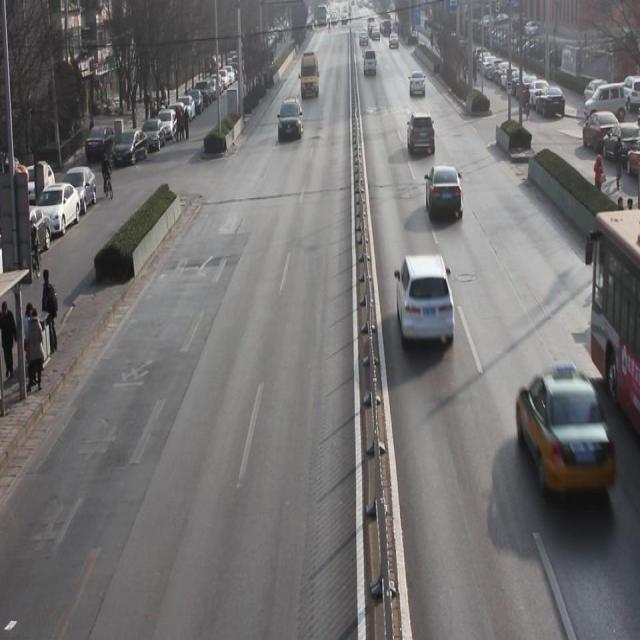car: (516, 363, 612, 501), (392, 255, 457, 358), (425, 164, 465, 225), (406, 112, 437, 159), (277, 96, 301, 141), (410, 68, 427, 99)
truck: (300, 50, 320, 101), (362, 48, 378, 81)
van: (592, 208, 640, 430)
